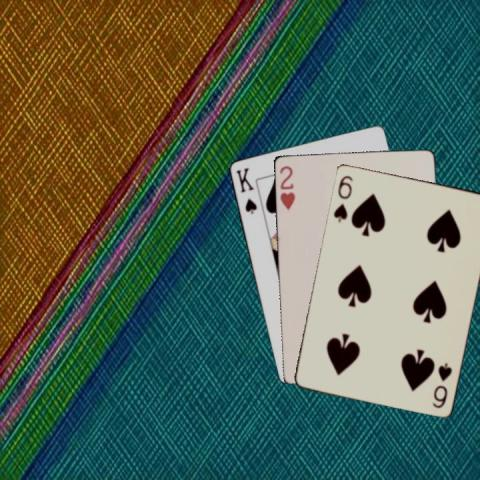2h: (277, 162, 296, 210)
6s: (330, 172, 354, 223), (430, 360, 454, 410)
Ks: (233, 164, 258, 215)
